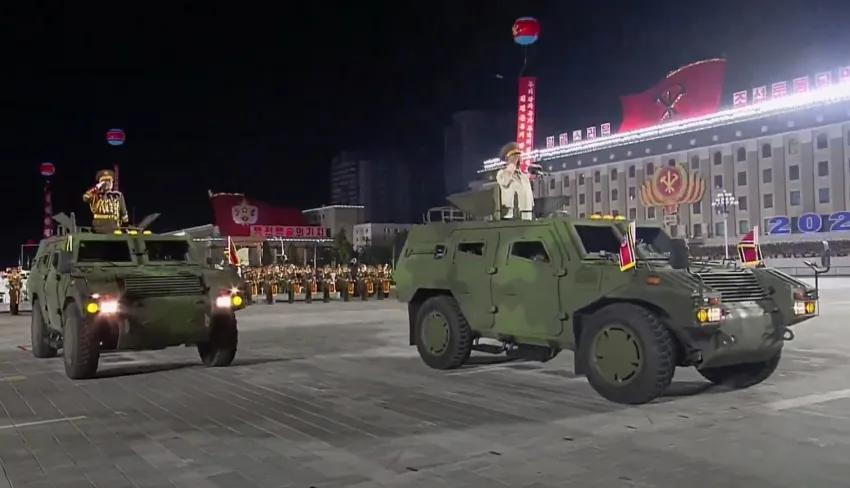MIL_IFV: (387, 179, 829, 400), (28, 211, 252, 380)
